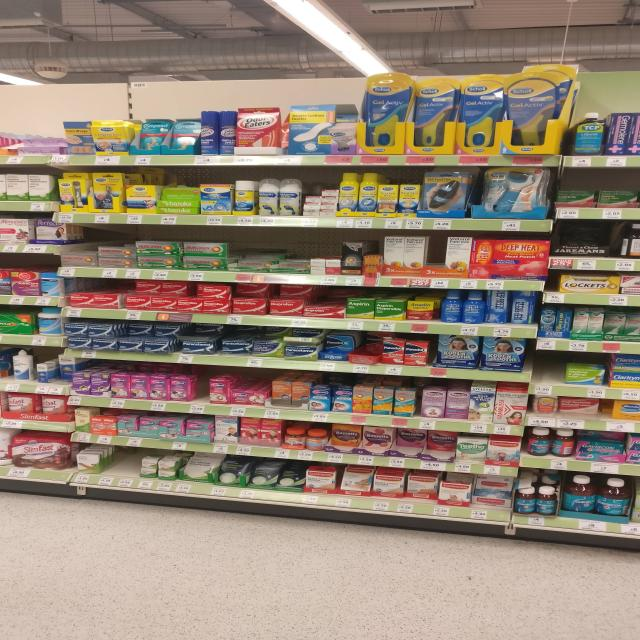void: (534, 351, 565, 384), (112, 448, 139, 476)
